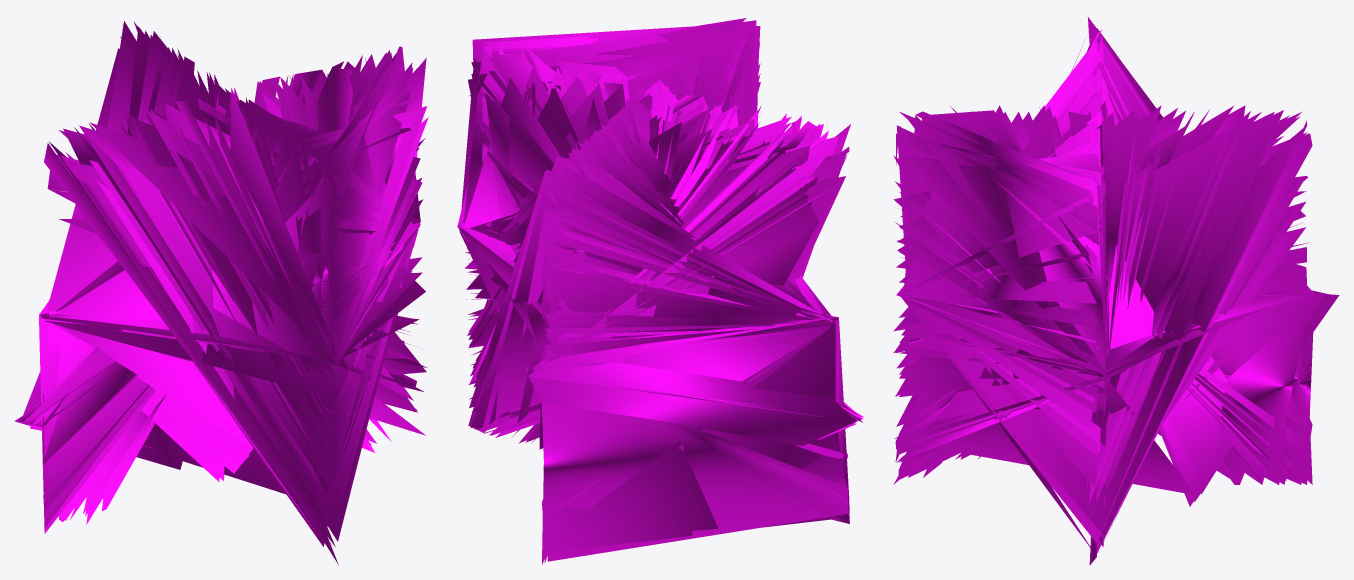
The model's file is gfaydark.glb.
3 views of the same model, side by side, from view 1: azimuth 30°, elevation 25°; view 2: azimuth 150°, elevation 25°; view 3: azimuth 270°, elevation 25° (orthographic). The views are drawn at different scales.
Visible parts, largest first — view 1: Object_0_Node_0; view 2: Object_0_Node_0; view 3: Object_0_Node_0.
Part boxes in pixels (x1,y1,x2,y2): Object_0_Node_0: (14, 21, 428, 564); Object_0_Node_0: (457, 18, 863, 564); Object_0_Node_0: (893, 16, 1339, 565).
Size of the model in its own units: 5323 by 5323 by 5323.
1 material, 1 textured.
